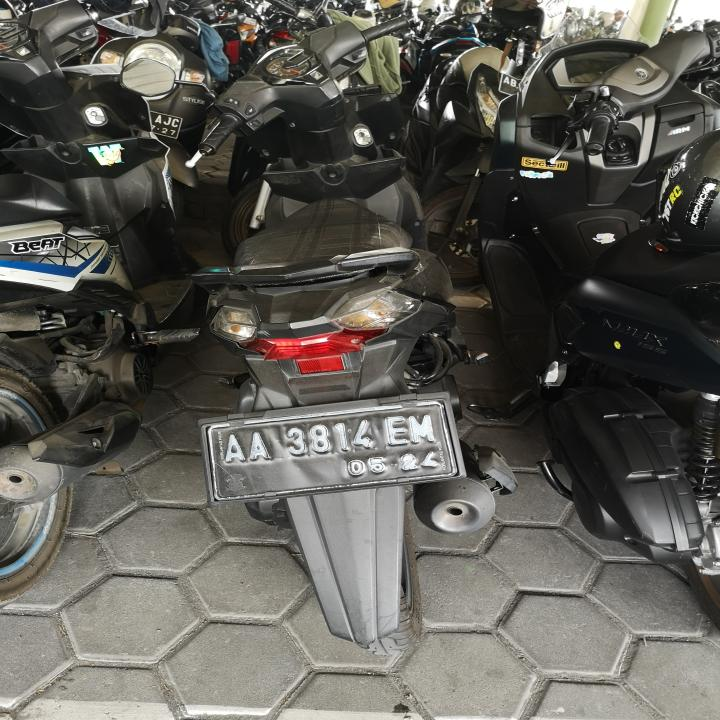plate: (209, 397, 459, 500)
